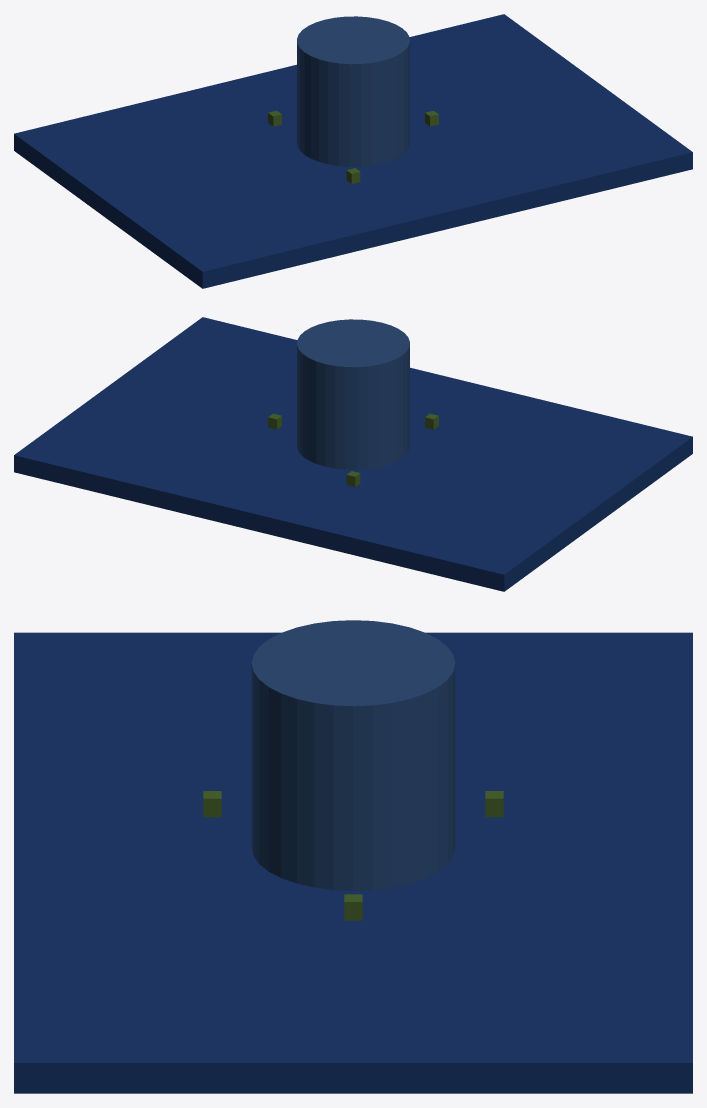
The picture shows the model from 3 angles, top to bottom: view 1: azimuth 30°, elevation 25°; view 2: azimuth 150°, elevation 25°; view 3: azimuth 270°, elevation 25°; orthographic projection. The views are drawn at different scales.
Parts seen in each view (by area): view 1: platform, container; view 2: platform, container; view 3: platform, container.
Boxes of the visible parts, bbox=[...] form: platform: bbox=[14, 14, 692, 288]; container: bbox=[297, 16, 409, 166]; platform: bbox=[14, 317, 692, 591]; container: bbox=[297, 319, 409, 469]; platform: bbox=[14, 632, 692, 1093]; container: bbox=[251, 620, 455, 890].
Size of the model in its own units: 600 by 140 by 400.
